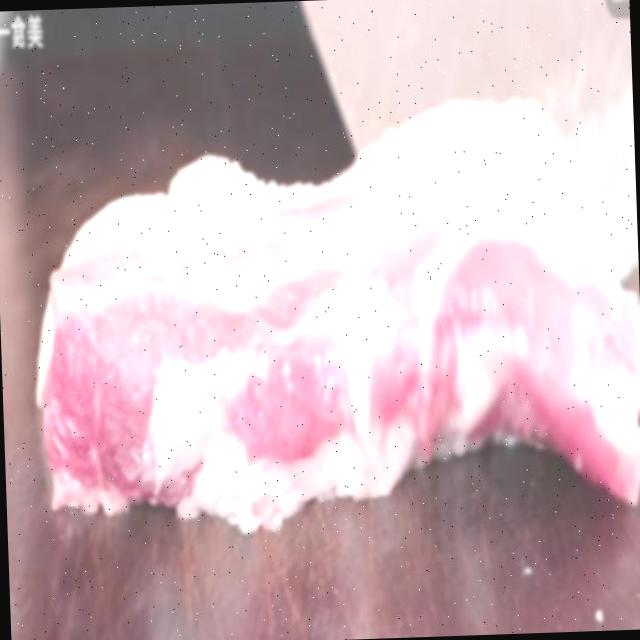pork: (11, 70, 640, 640)
